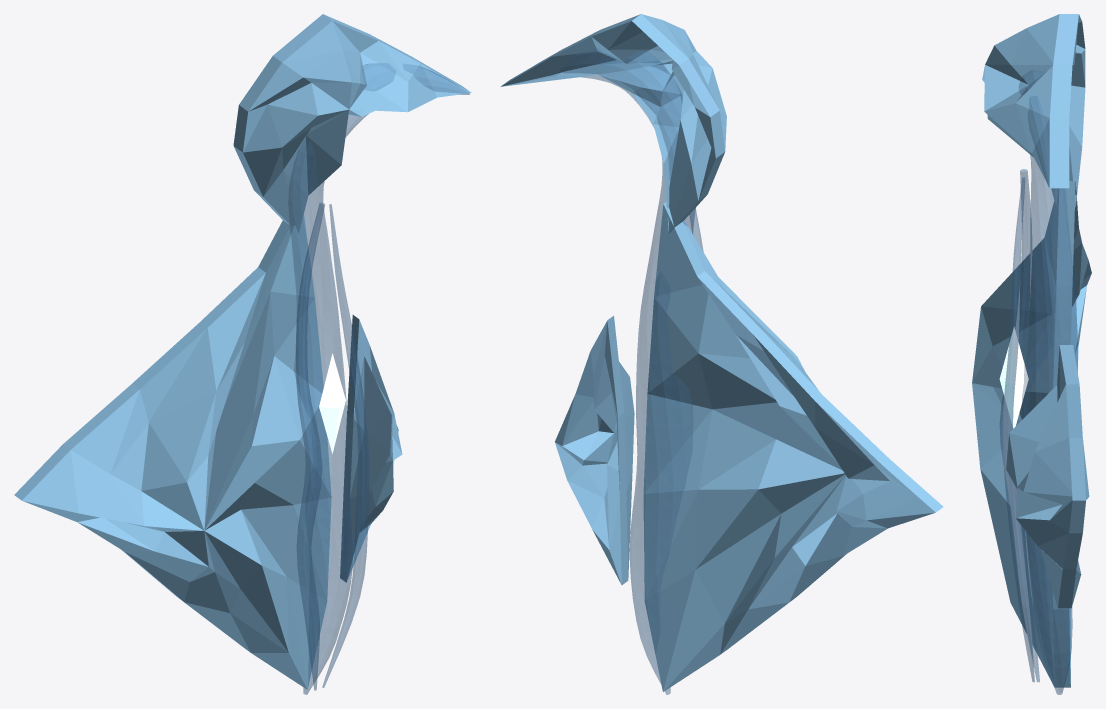
File: lya-body-candidate.glb
The picture shows the model from 3 angles, left to right: view 1: azimuth 30°, elevation 25°; view 2: azimuth 150°, elevation 25°; view 3: azimuth 270°, elevation 25°; orthographic projection. The views are drawn at different scales.
Parts seen in each view (by area): view 1: left-mantle, crest, backbone, right-fin, inner-sapphire-fold, outer-ice-fold, core; view 2: left-mantle, backbone, crest, right-fin; view 3: left-mantle, backbone, crest, right-fin, outer-ice-fold, inner-sapphire-fold, core.
Boxes of the visible parts, x1,y1,x2,y2 form: left-mantle: [14, 214, 331, 689]; crest: [233, 14, 471, 233]; backbone: [288, 63, 469, 694]; right-fin: [340, 315, 402, 582]; inner-sapphire-fold: [296, 202, 324, 690]; outer-ice-fold: [322, 204, 369, 687]; core: [319, 353, 345, 453]; left-mantle: [643, 202, 943, 691]; backbone: [536, 47, 695, 694]; crest: [500, 14, 726, 233]; right-fin: [555, 315, 634, 585]; left-mantle: [972, 181, 1091, 687]; backbone: [1019, 70, 1077, 694]; crest: [982, 14, 1085, 207]; right-fin: [1006, 345, 1089, 608]; outer-ice-fold: [1002, 177, 1034, 682]; inner-sapphire-fold: [999, 169, 1039, 682]; core: [999, 327, 1028, 428].
Bounding box in the file's own units: 1.63 × 2.36 × 0.37.
